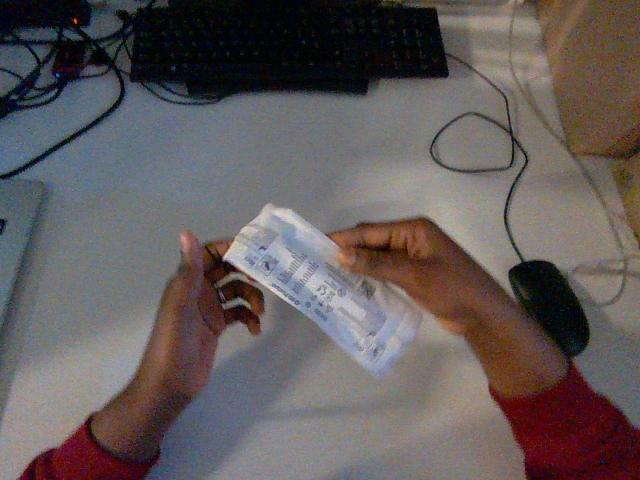syringe: (224, 204, 423, 374)
